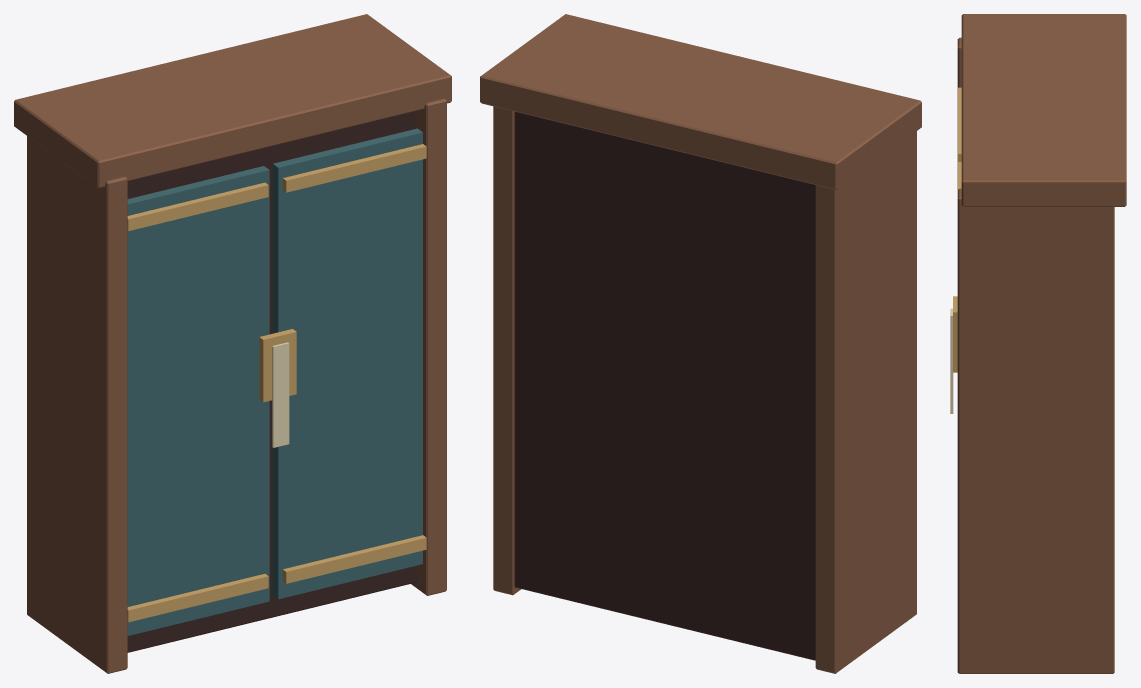
File: sealed_cabinet.glb
3 renders of one model, left to right at view 1: azimuth 30°, elevation 25°; view 2: azimuth 150°, elevation 25°; view 3: azimuth 270°, elevation 25°, orthographic. The views are drawn at different scales.
Visible parts, largest first — view 1: sealed_cabinet_Fabric, sealed_cabinet_Cedar, sealed_cabinet_Timber, sealed_cabinet_Bronze, sealed_cabinet_Plaster; view 2: sealed_cabinet_Timber, sealed_cabinet_Cedar; view 3: sealed_cabinet_Cedar, sealed_cabinet_Bronze, sealed_cabinet_Plaster.
Part boxes in pixels (x1,y1,x2,y2): sealed_cabinet_Fabric: (127,128,422,635); sealed_cabinet_Cedar: (14,14,451,673); sealed_cabinet_Timber: (127,110,417,652); sealed_cabinet_Bronze: (127,144,426,622); sealed_cabinet_Plaster: (272,342,289,447); sealed_cabinet_Timber: (514,111,815,660); sealed_cabinet_Cedar: (480,14,921,673); sealed_cabinet_Cedar: (957,14,1126,673); sealed_cabinet_Bronze: (953,87,961,372); sealed_cabinet_Plaster: (950,308,953,413).
Size of the model in its own units: 2.02 by 2.8 by 0.8975.
